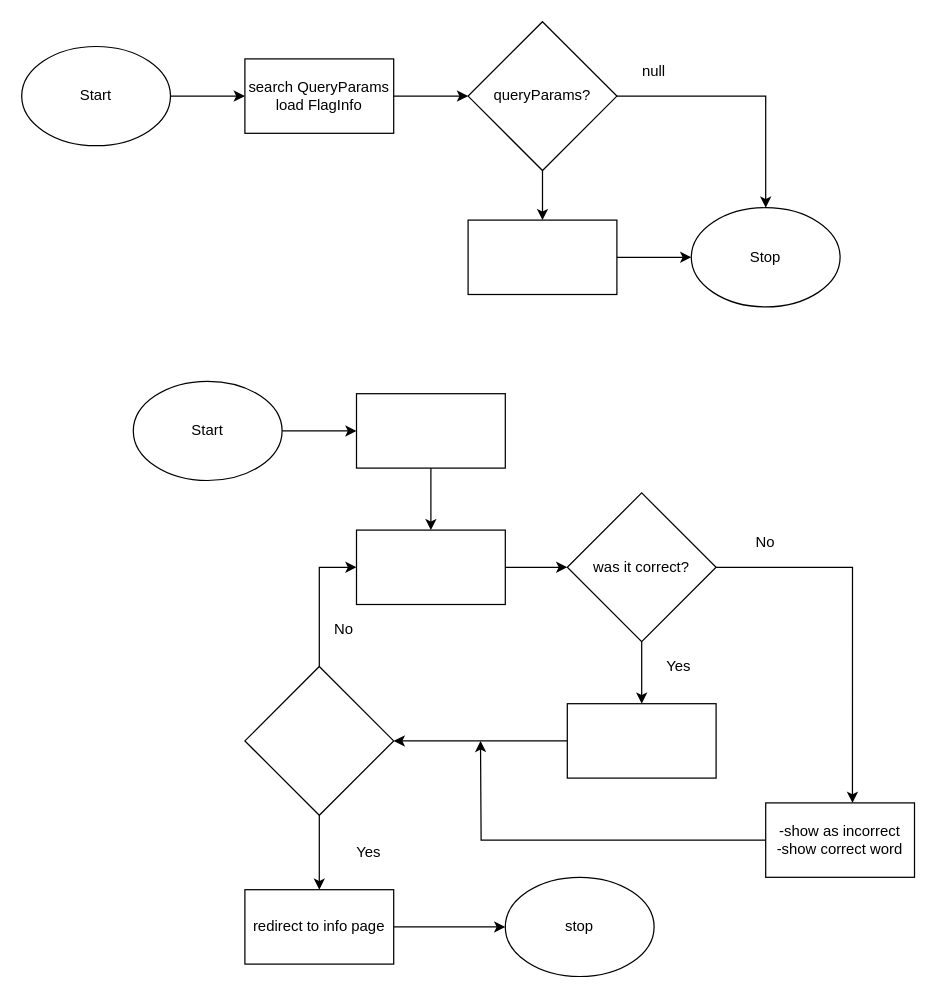
This 936x998 diagram has some shape labels left out. Each missing label, with the centre of its shape:
"-show question -answer question -pop question from array" goes at [430,566].
"query quiz" goes at [430,430].
"quiz ended?" goes at [319,740].
"set FormBuilder Show params" goes at [542,256].
"show as correct" goes at [641,740].
